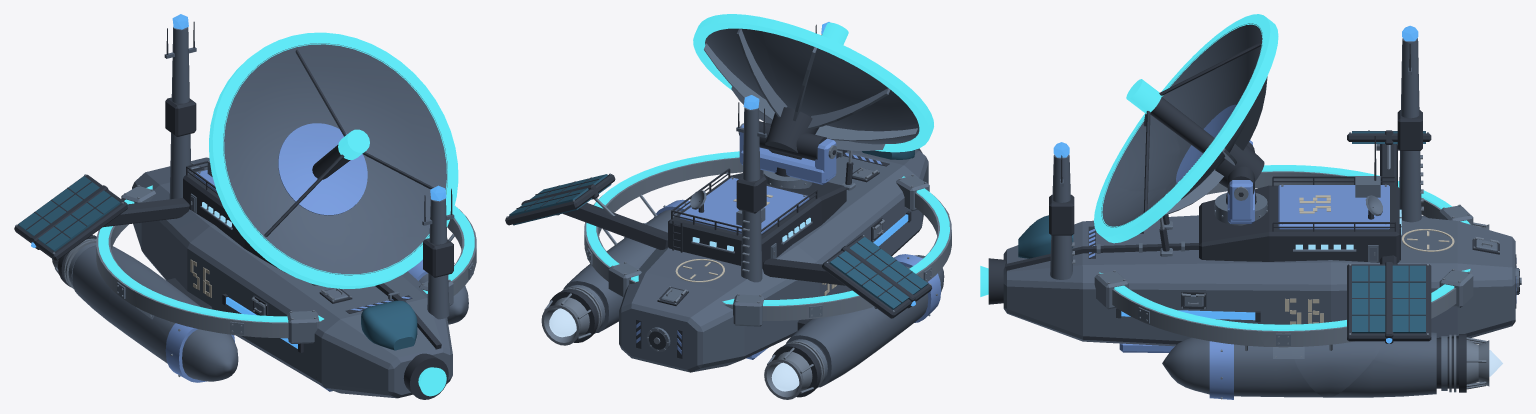
File: signal_booster_wreck.glb
3 views of the same model, side by side, from view 1: azimuth 30°, elevation 25°; view 2: azimuth 150°, elevation 25°; view 3: azimuth 270°, elevation 25° (orthographic). The views are drawn at different scales.
Visible parts, largest first — view 1: signal_booster_wreck_01, signal_booster_wreck_04, signal_booster_wreck_07, signal_booster_wreck_10, signal_booster_wreck_02, signal_booster_wreck_06, signal_booster_wreck_09, signal_booster_wreck_05, signal_booster_wreck_03; view 2: signal_booster_wreck_09, signal_booster_wreck_06, signal_booster_wreck_07, signal_booster_wreck_02, signal_booster_wreck_10, signal_booster_wreck_04, signal_booster_wreck_08, signal_booster_wreck_00, signal_booster_wreck_05, signal_booster_wreck_03, signal_booster_wreck_01; view 3: signal_booster_wreck_05, signal_booster_wreck_08, signal_booster_wreck_01, signal_booster_wreck_09, signal_booster_wreck_00, signal_booster_wreck_04, signal_booster_wreck_07, signal_booster_wreck_10, signal_booster_wreck_02, signal_booster_wreck_03, signal_booster_wreck_06.
Boxes of the visible parts, x1,y1,x2,y2 form: signal_booster_wreck_01: (316,185,454,399); signal_booster_wreck_04: (308,32,458,223); signal_booster_wreck_07: (209,33,361,215); signal_booster_wreck_10: (135,214,349,388); signal_booster_wreck_02: (82,186,282,373); signal_booster_wreck_06: (14,174,167,325); signal_booster_wreck_09: (127,133,216,274); signal_booster_wreck_05: (346,211,476,324); signal_booster_wreck_03: (164,14,196,138); signal_booster_wreck_09: (620,188,818,372); signal_booster_wreck_06: (692,241,931,399); signal_booster_wreck_07: (756,17,932,163); signal_booster_wreck_02: (733,151,938,359); signal_booster_wreck_10: (828,119,951,316); signal_booster_wreck_04: (693,14,832,160); signal_booster_wreck_08: (505,172,734,269); signal_booster_wreck_00: (541,242,639,360); signal_booster_wreck_05: (625,151,768,232); signal_booster_wreck_03: (736,95,766,213); signal_booster_wreck_01: (815,22,928,235); signal_booster_wreck_05: (1098,188,1326,399); signal_booster_wreck_08: (1256,218,1431,397); signal_booster_wreck_01: (980,142,1160,342); signal_booster_wreck_09: (1304,146,1521,308); signal_booster_wreck_00: (1330,274,1515,397); signal_booster_wreck_04: (1061,39,1277,233); signal_booster_wreck_07: (1126,14,1278,176); signal_booster_wreck_10: (1102,91,1227,239); signal_booster_wreck_02: (1191,131,1368,236); signal_booster_wreck_03: (1374,25,1422,157); signal_booster_wreck_06: (1355,130,1489,229).
Size of the model in its own units: 4.6 by 3.22 by 5.12.
